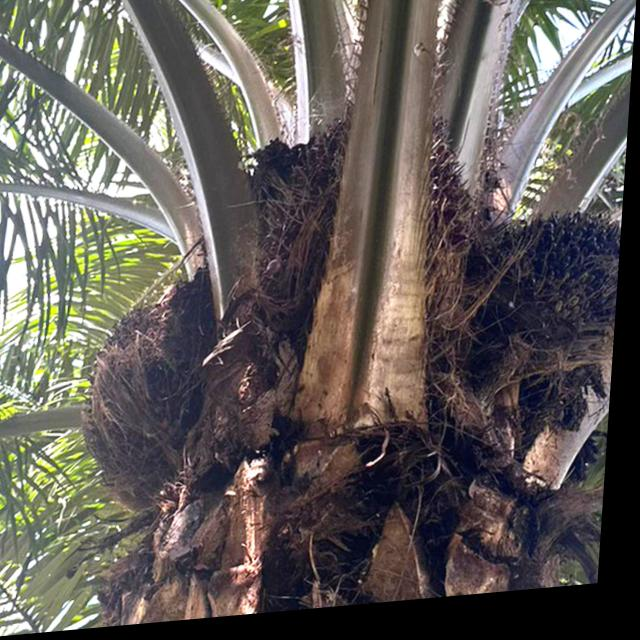ripe: (239, 107, 495, 376)
